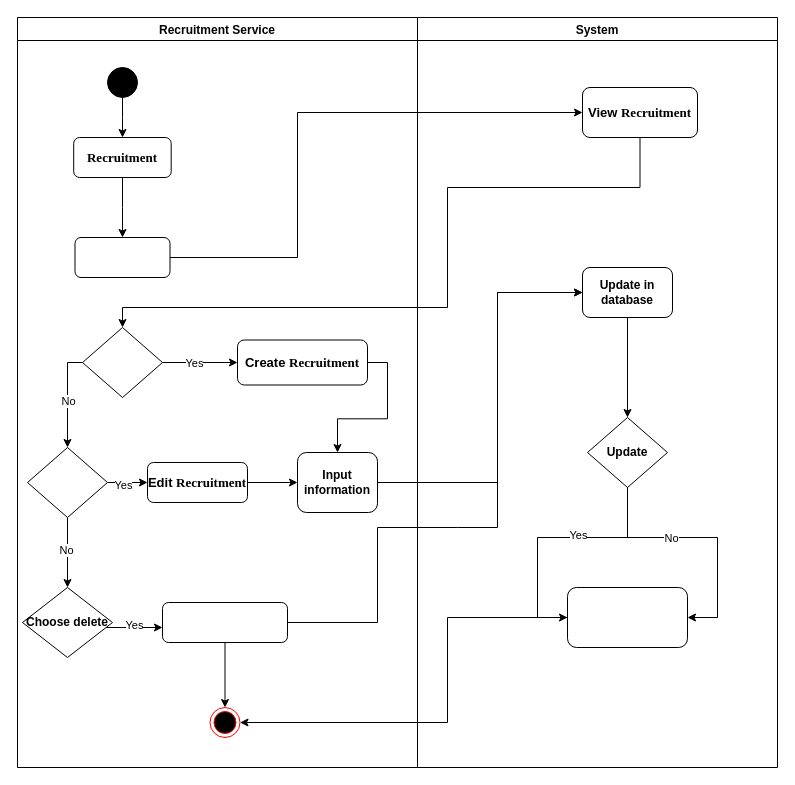
The diagram is 795 pixels wide and 785 high, and some of its shapes have lost their labels. The centre of each missing label's shape, as x and y in pixels:
"Choose Class" belongs at (x=122, y=257).
"Choose Create" belongs at (x=122, y=362).
"Choose Edit" belongs at (x=67, y=482).
"Delete Recruitment" belongs at (x=225, y=622).
"Notification" belongs at (x=627, y=617).
